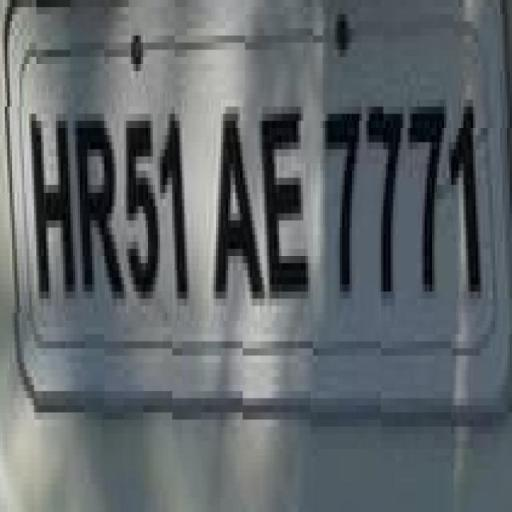number plate: (0, 0, 512, 419)
